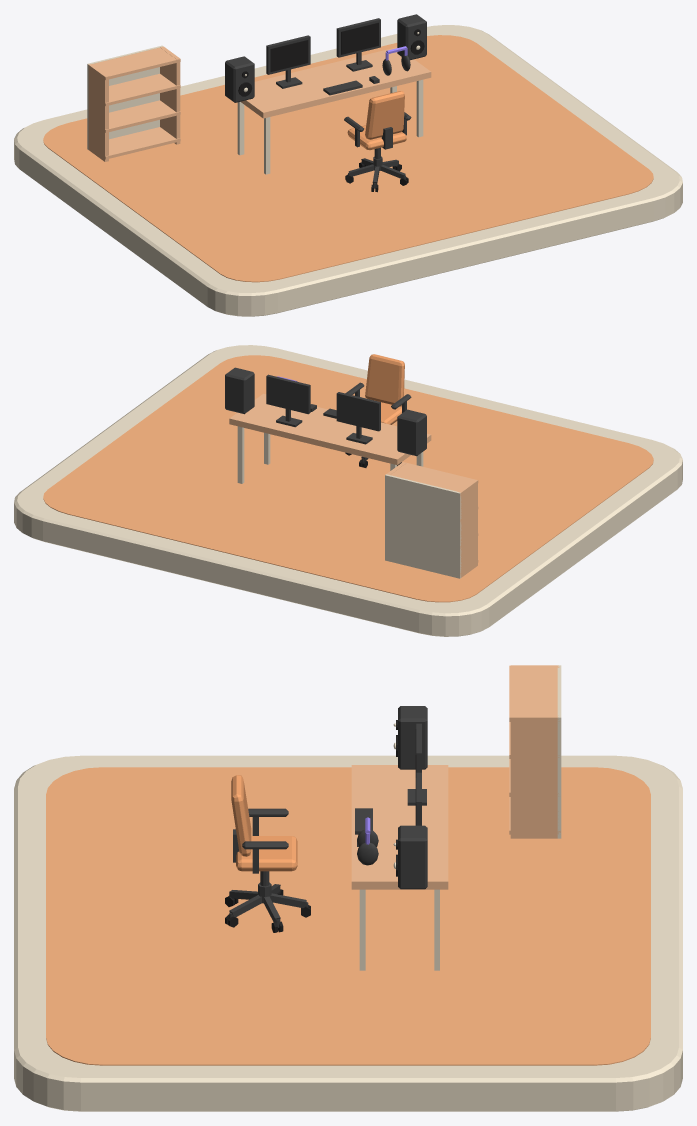
3 renders of one model, top to bottom at view 1: azimuth 30°, elevation 25°; view 2: azimuth 150°, elevation 25°; view 3: azimuth 270°, elevation 25°, orthographic. The views are drawn at different scales.
Visible parts, largest first — view 1: COM-02 Floor Surface, COM-01 Rounded Base Direct, Top, COM-04_Chair_blender_direct, Side, Frame.001, Frame, Back, Shelf.003, Shelf.001, Shelf, Shelf.002 (+3 smaller); view 2: COM-02 Floor Surface, COM-01 Rounded Base Direct, Back, Top, COM-04_Chair_blender_direct, Frame, Frame.001, Side, Enclosure, Enclosure.001, Shelf.003; view 3: COM-02 Floor Surface, COM-01 Rounded Base Direct, Top, COM-04_Chair_blender_direct, Side.001, Shelf.003, Enclosure.001, Enclosure, Back.
Part boxes in pixels (x1=…): COM-02 Floor Surface: x1=43, y1=35, x2=653, y2=282; COM-01 Rounded Base Direct: x1=14, y1=25, x2=682, y2=316; Top: x1=237, y1=47, x2=431, y2=174; COM-04_Chair_blender_direct: x1=344, y1=91, x2=411, y2=192; Side: x1=88, y1=64, x2=108, y2=161; Frame.001: x1=336, y1=18, x2=380, y2=71; Frame: x1=266, y1=35, x2=310, y2=88; Back: x1=87, y1=45, x2=163, y2=149; Shelf.003: x1=88, y1=47, x2=180, y2=80; Shelf.001: x1=88, y1=100, x2=180, y2=132; Shelf: x1=88, y1=127, x2=180, y2=159; Shelf.002: x1=88, y1=73, x2=180, y2=106; COM-02 Floor Surface: x1=43, y1=355, x2=653, y2=602; COM-01 Rounded Base Direct: x1=14, y1=345, x2=682, y2=636; Back: x1=385, y1=474, x2=461, y2=578; Top: x1=229, y1=393, x2=431, y2=483; COM-04_Chair_blender_direct: x1=345, y1=354, x2=411, y2=467; Frame: x1=336, y1=392, x2=380, y2=444; Frame.001: x1=266, y1=374, x2=310, y2=427; Side: x1=458, y1=479, x2=477, y2=577; Enclosure: x1=397, y1=409, x2=426, y2=456; Enclosure.001: x1=225, y1=367, x2=254, y2=414; Shelf.003: x1=390, y1=462, x2=478, y2=495; COM-02 Floor Surface: x1=46, y1=767, x2=650, y2=1065; COM-01 Rounded Base Direct: x1=14, y1=755, x2=682, y2=1111; Top: x1=351, y1=765, x2=448, y2=970; COM-04_Chair_blender_direct: x1=225, y1=775, x2=310, y2=932; Side.001: x1=510, y1=715, x2=558, y2=838; Shelf.003: x1=509, y1=665, x2=559, y2=721; Enclosure.001: x1=398, y1=825, x2=427, y2=889; Enclosure: x1=398, y1=706, x2=427, y2=769; Back: x1=557, y1=665, x2=561, y2=838.
Size of the model in its own units: 6 by 1.61 by 5.2.
1 material, 1 textured.
